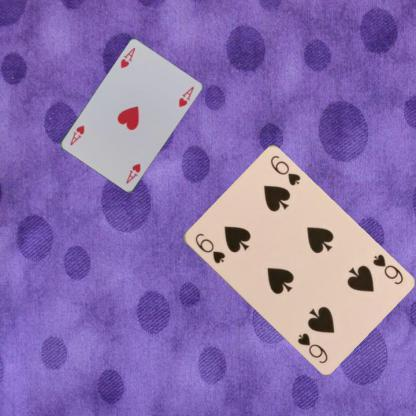6s: (192, 230, 226, 266), (370, 251, 404, 286)
Ah: (118, 45, 137, 70), (123, 162, 142, 184)
